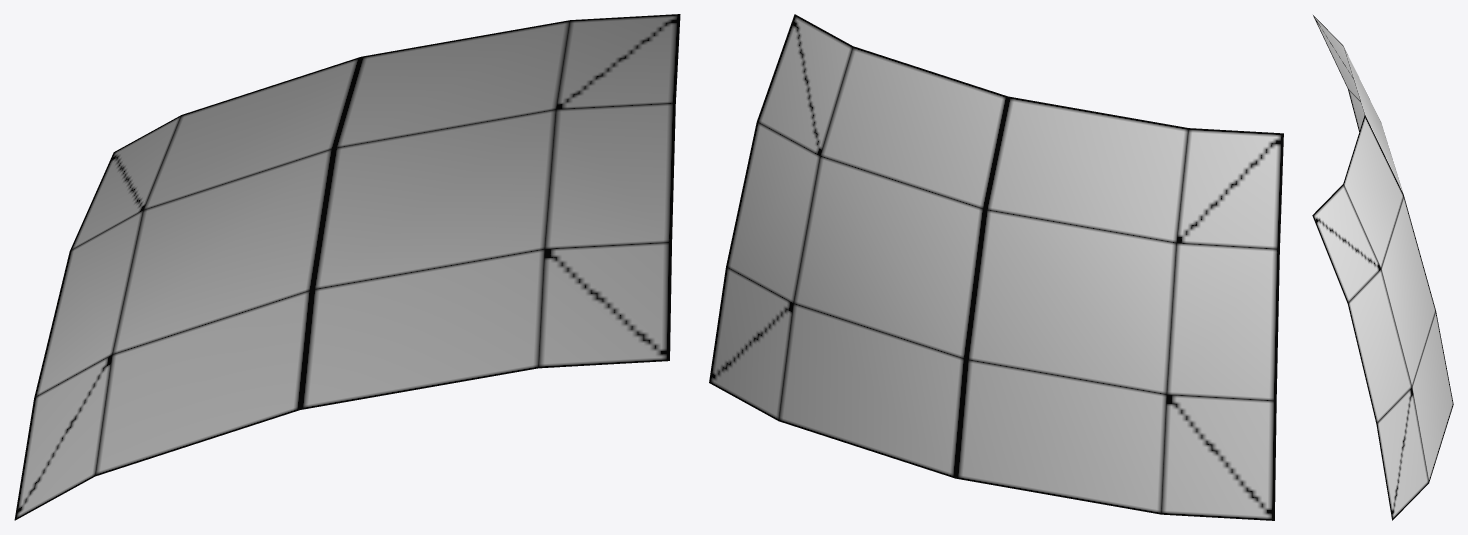
Rendered from tantares_orbital_module_s1_3_flag.obj.
3 views of the same model, side by side, from view 1: azimuth 30°, elevation 25°; view 2: azimuth 150°, elevation 25°; view 3: azimuth 270°, elevation 25° (orthographic). The views are drawn at different scales.
Parts seen in each view (by area): view 1: flag; view 2: flag; view 3: flag.
Boxes of the visible parts, box(x1,y1,x2,y2) form: flag: box(14, 14, 680, 520); flag: box(709, 14, 1283, 520); flag: box(1312, 15, 1453, 520).
Size of the model in its own units: 0.4748 by 0.2755 by 0.1218.
1 material, 1 textured.
